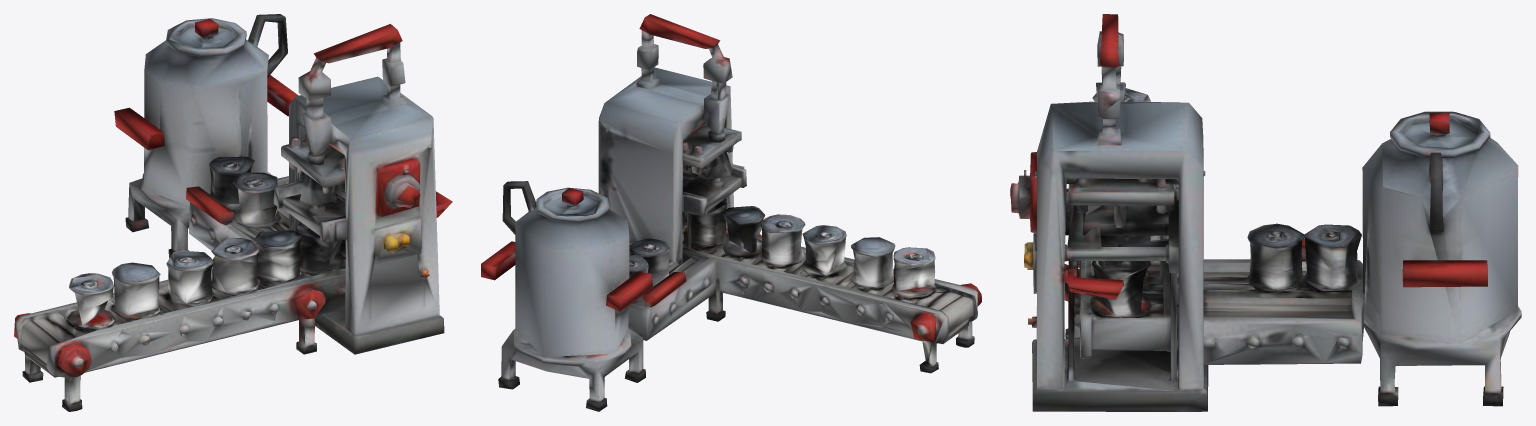
Rendered from guantouji-3.glb.
3 renders of one model, left to right at view 1: azimuth 30°, elevation 25°; view 2: azimuth 150°, elevation 25°; view 3: azimuth 270°, elevation 25°, orthographic. The views are drawn at different scales.
Visible parts, largest first — view 1: node_0; view 2: node_0; view 3: node_0.
Part boxes in pixels (x1,y1,x2,y2): node_0: (14,14,452,411); node_0: (481,14,981,411); node_0: (1010,14,1521,411).
Size of the model in its own units: 0.8591 by 0.604 by 0.7808.
Materials: 1 (1 with a texture image).
